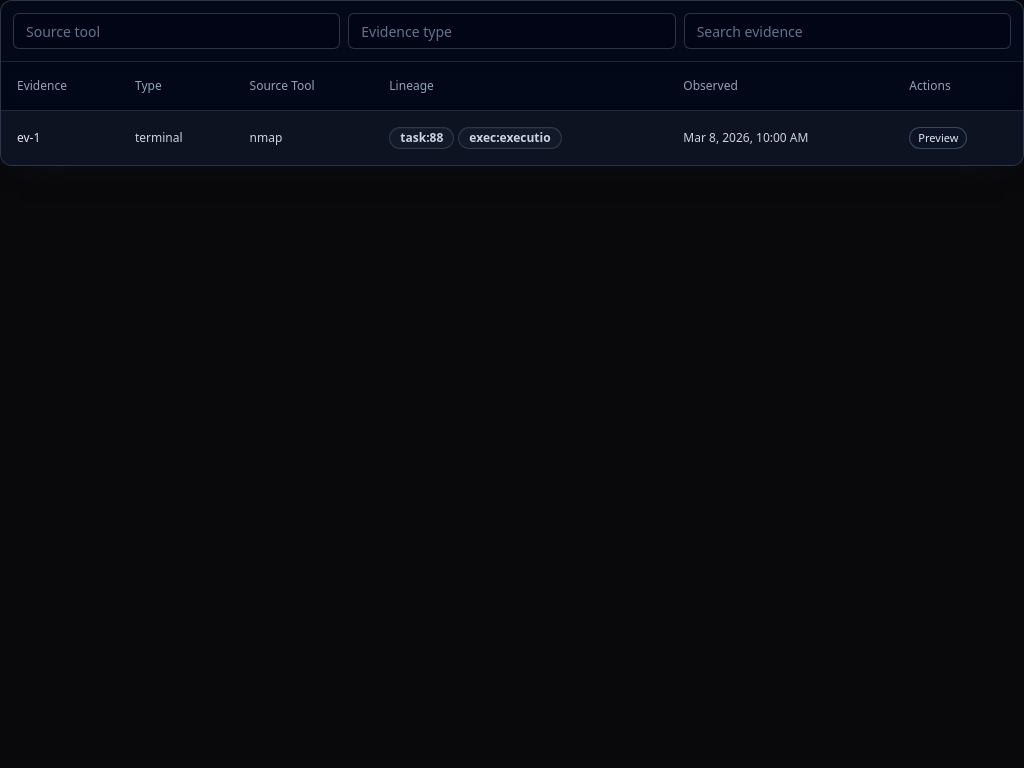
Test: engagement-evidence-drawer › shows unavailable state when content cannot be read
Click the button "Preview" at (938, 138), box [909,126,967,148]
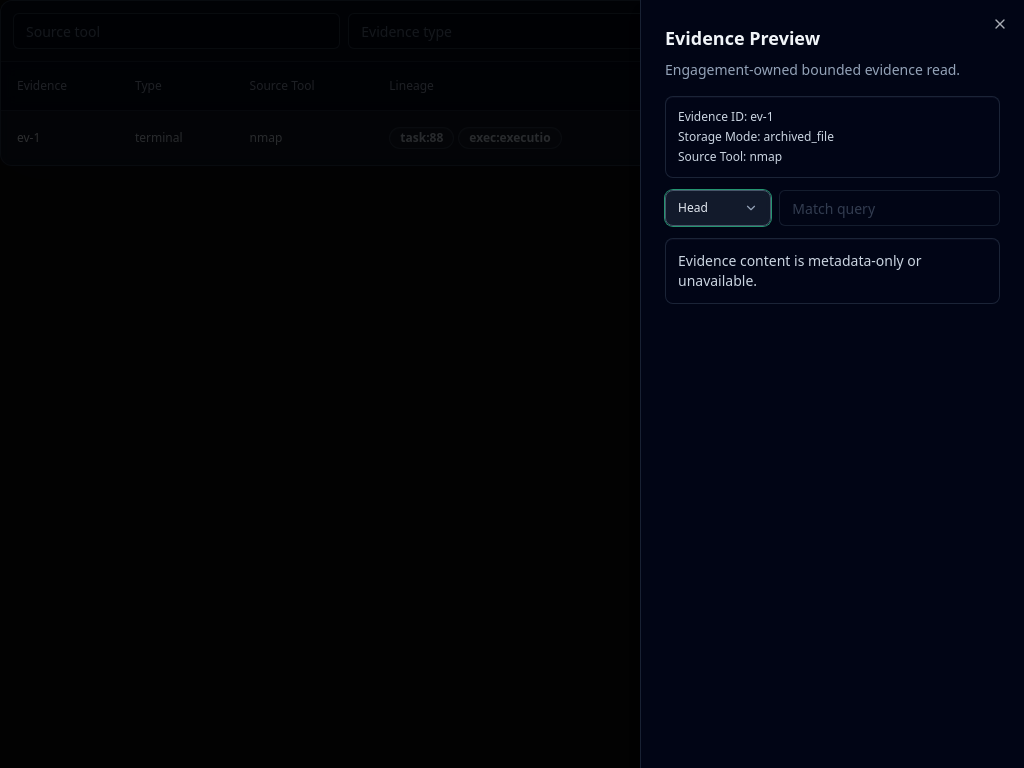
Result: the text "Evidence content is metadata-only or unavailable." is shown at [665,238,1000,304]
